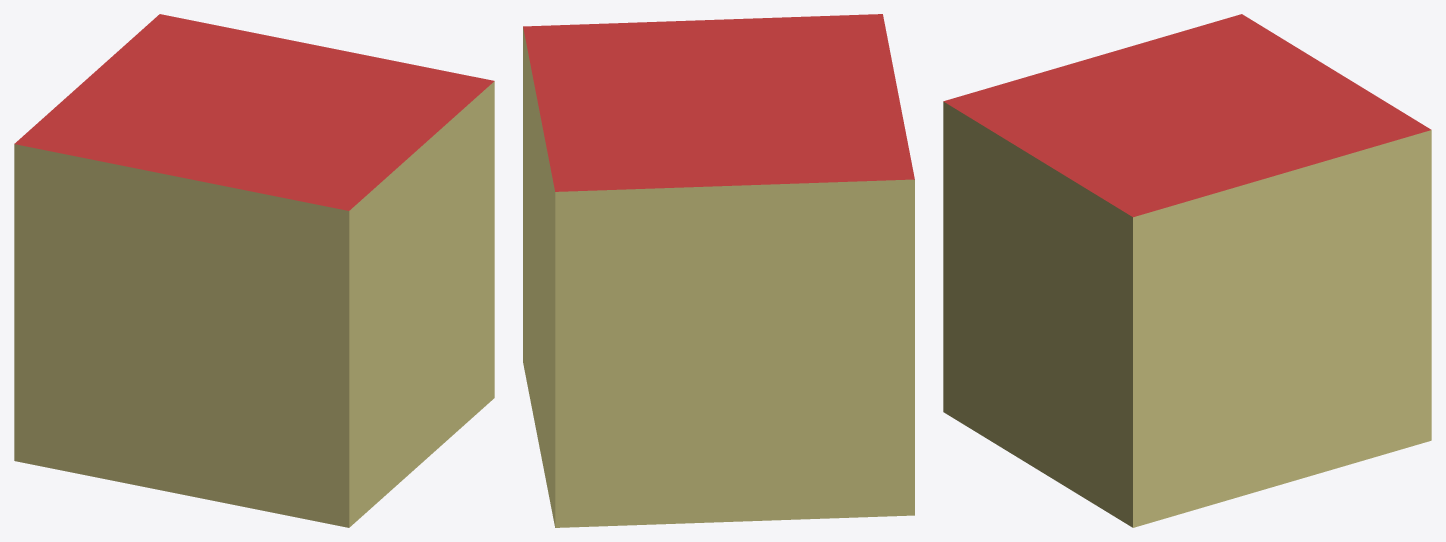
3 renders of one model, left to right at view 1: azimuth 30°, elevation 25°; view 2: azimuth 150°, elevation 25°; view 3: azimuth 270°, elevation 25°, orthographic. The views are drawn at different scales.
Size of the model in its own units: 8.83 by 8.97 by 6.29.
